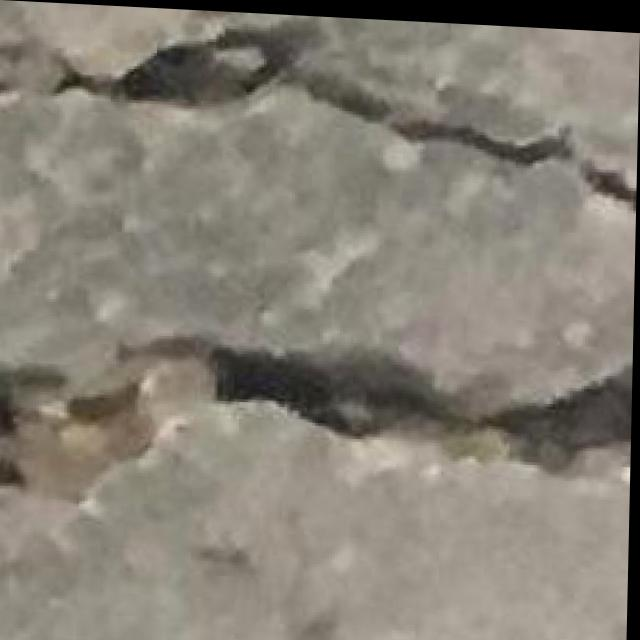Crack: (8, 274, 630, 539), (0, 11, 637, 226)
